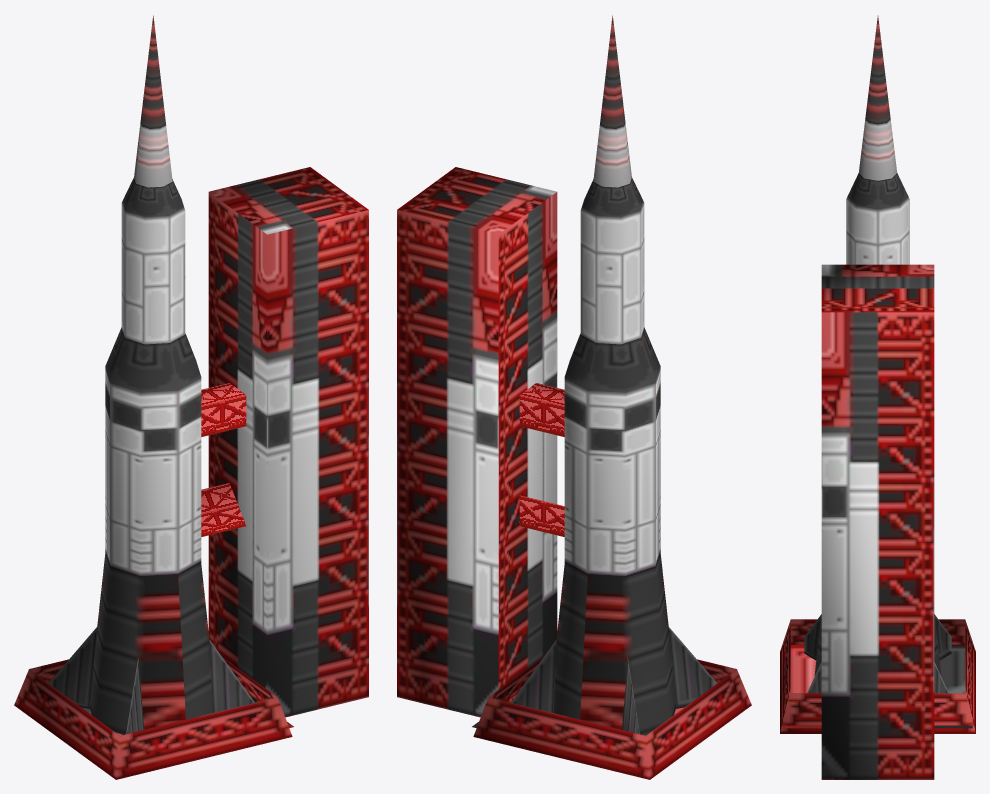
Rendered from int_uvs_rocket.dae.
3 views of the same model, side by side, from view 1: azimuth 30°, elevation 25°; view 2: azimuth 150°, elevation 25°; view 3: azimuth 270°, elevation 25° (orthographic). The views are drawn at different scales.
Visible parts, largest first — view 1: int_uvs_rocket; view 2: int_uvs_rocket; view 3: int_uvs_rocket.
Boxes of the visible parts, bbox=[...] form: int_uvs_rocket: bbox=[14, 15, 368, 779]; int_uvs_rocket: bbox=[397, 15, 751, 779]; int_uvs_rocket: bbox=[780, 15, 975, 779].
Bounding box in the file's own units: 41.51 × 102 × 26.7.
2 materials, 2 textured.
